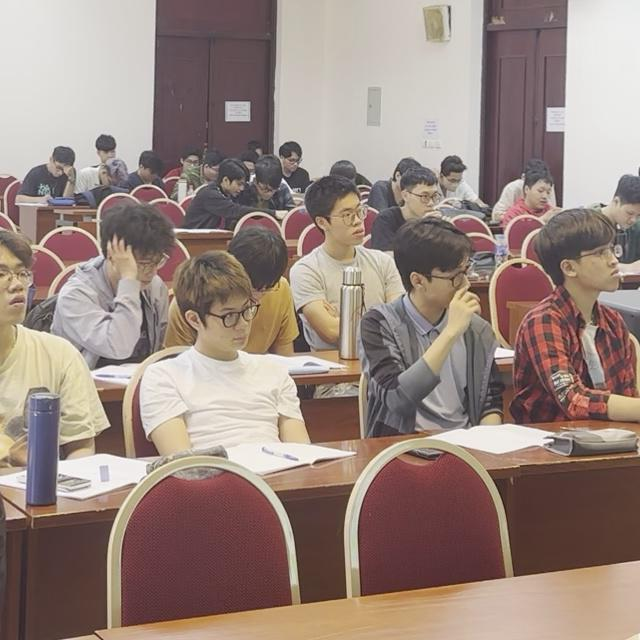Looking away: (94, 197, 176, 311), (229, 217, 302, 316), (374, 173, 458, 252), (502, 178, 559, 232), (176, 144, 224, 203), (607, 164, 639, 245), (253, 159, 294, 209), (438, 153, 480, 199), (213, 164, 247, 209), (278, 136, 309, 182), (45, 146, 80, 183), (176, 145, 201, 183), (135, 155, 158, 189)
Looking forward: (170, 279, 284, 375), (534, 203, 633, 294), (0, 223, 45, 369), (422, 231, 487, 328), (318, 197, 363, 271), (77, 124, 122, 184), (92, 148, 133, 207)
